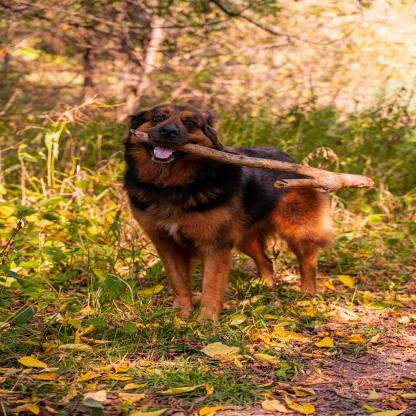dog: (123, 103, 328, 320)
